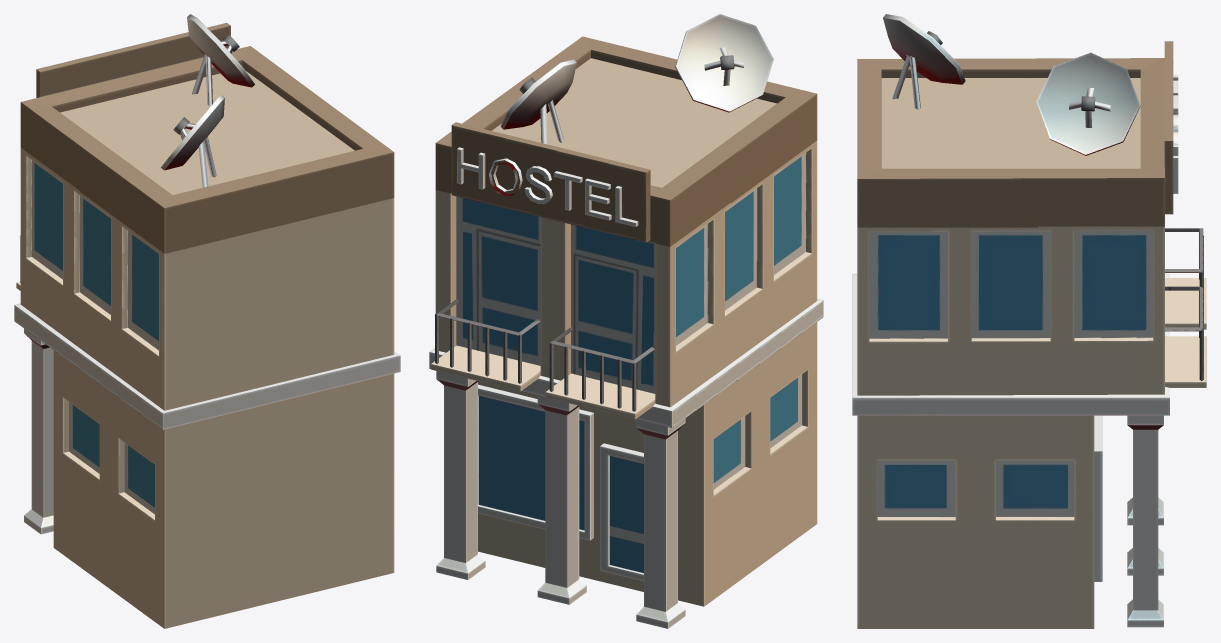
File: Hostel.glb
3 views of the same model, side by side, from view 1: azimuth 30°, elevation 25°; view 2: azimuth 150°, elevation 25°; view 3: azimuth 270°, elevation 25° (orthographic). The views are drawn at different scales.
Parts seen in each view (by area): view 1: Plane001; view 2: Plane001; view 3: Plane001.
Boxes of the visible parts, bbox=[...] form: Plane001: bbox=[14, 14, 400, 628]; Plane001: bbox=[429, 14, 823, 628]; Plane001: bbox=[852, 14, 1206, 628].
Size of the model in its own units: 2.2 by 4.38 by 2.65.
1 material, 1 textured.
